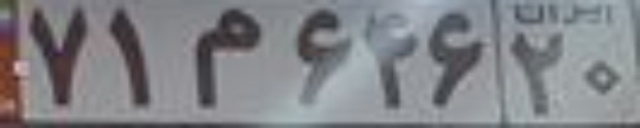0: (581, 60, 624, 94)
1: (106, 4, 157, 106)
2: (510, 31, 574, 116)
4: (357, 12, 419, 109)
6: (290, 12, 352, 105)
7: (24, 4, 93, 106), (426, 12, 481, 110)
mim: (191, 8, 262, 106)
